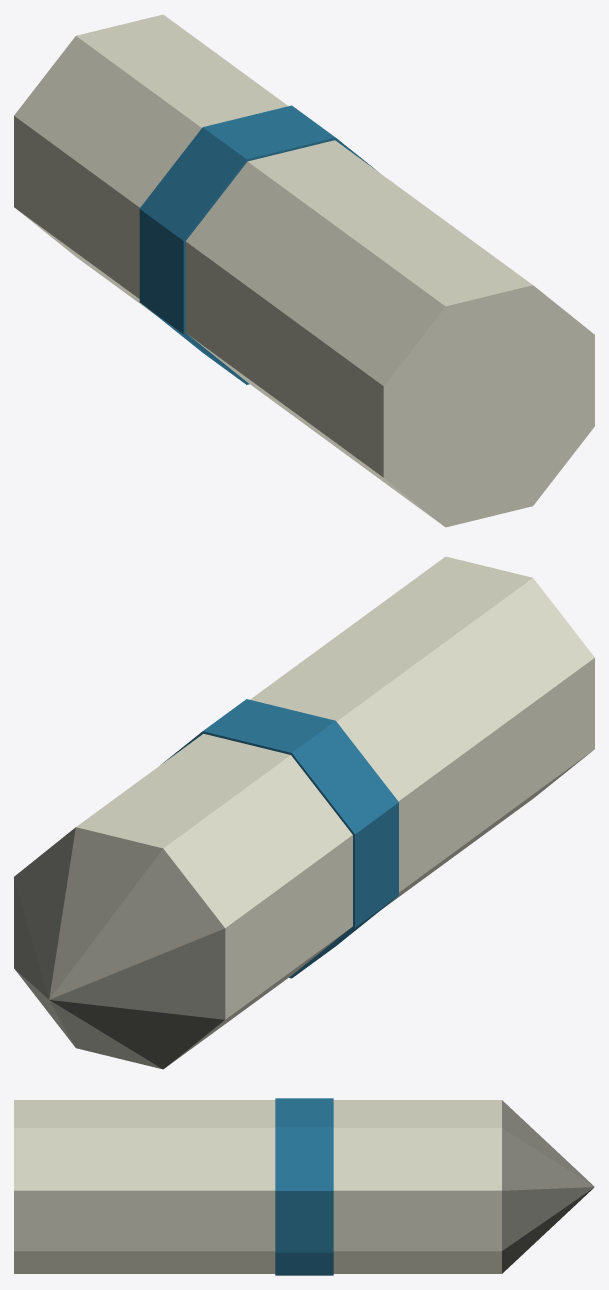
Rendered from ce_ammo_chcells_ion_a.obj.
3 renders of one model, top to bottom at view 1: azimuth 30°, elevation 25°; view 2: azimuth 150°, elevation 25°; view 3: azimuth 270°, elevation 25°, orthographic. The views are drawn at different scales.
Visible parts, largest first — view 1: ce_ammo_chcells_ion_a_0, ce_ammo_chcells_ion_a_2, ce_ammo_chcells_ion_a_1; view 2: ce_ammo_chcells_ion_a_0, ce_ammo_chcells_ion_a_2, ce_ammo_chcells_ion_a_3, ce_ammo_chcells_ion_a_1; view 3: ce_ammo_chcells_ion_a_0, ce_ammo_chcells_ion_a_2, ce_ammo_chcells_ion_a_1, ce_ammo_chcells_ion_a_3.
Part boxes in pixels (bbox=[...]): ce_ammo_chcells_ion_a_0: bbox=[185, 140, 594, 527]; ce_ammo_chcells_ion_a_2: bbox=[14, 14, 288, 315]; ce_ammo_chcells_ion_a_1: bbox=[139, 105, 376, 384]; ce_ammo_chcells_ion_a_0: bbox=[250, 556, 594, 908]; ce_ammo_chcells_ion_a_2: bbox=[76, 733, 352, 1066]; ce_ammo_chcells_ion_a_3: bbox=[14, 827, 225, 1069]; ce_ammo_chcells_ion_a_1: bbox=[162, 699, 398, 978]; ce_ammo_chcells_ion_a_0: bbox=[14, 1100, 275, 1273]; ce_ammo_chcells_ion_a_2: bbox=[333, 1100, 501, 1273]; ce_ammo_chcells_ion_a_1: bbox=[275, 1098, 333, 1275]; ce_ammo_chcells_ion_a_3: bbox=[502, 1100, 594, 1273].
Size of the model in its own units: 0.1696 by 0.1696 by 0.6.
